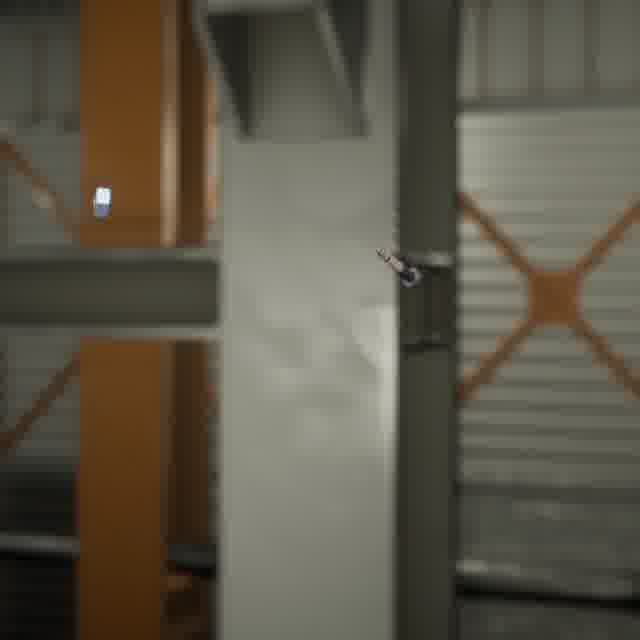bolt: (371, 242, 427, 293)
nut: (88, 181, 115, 222)
